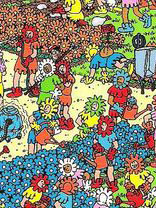waldo: (47, 44, 61, 61)
